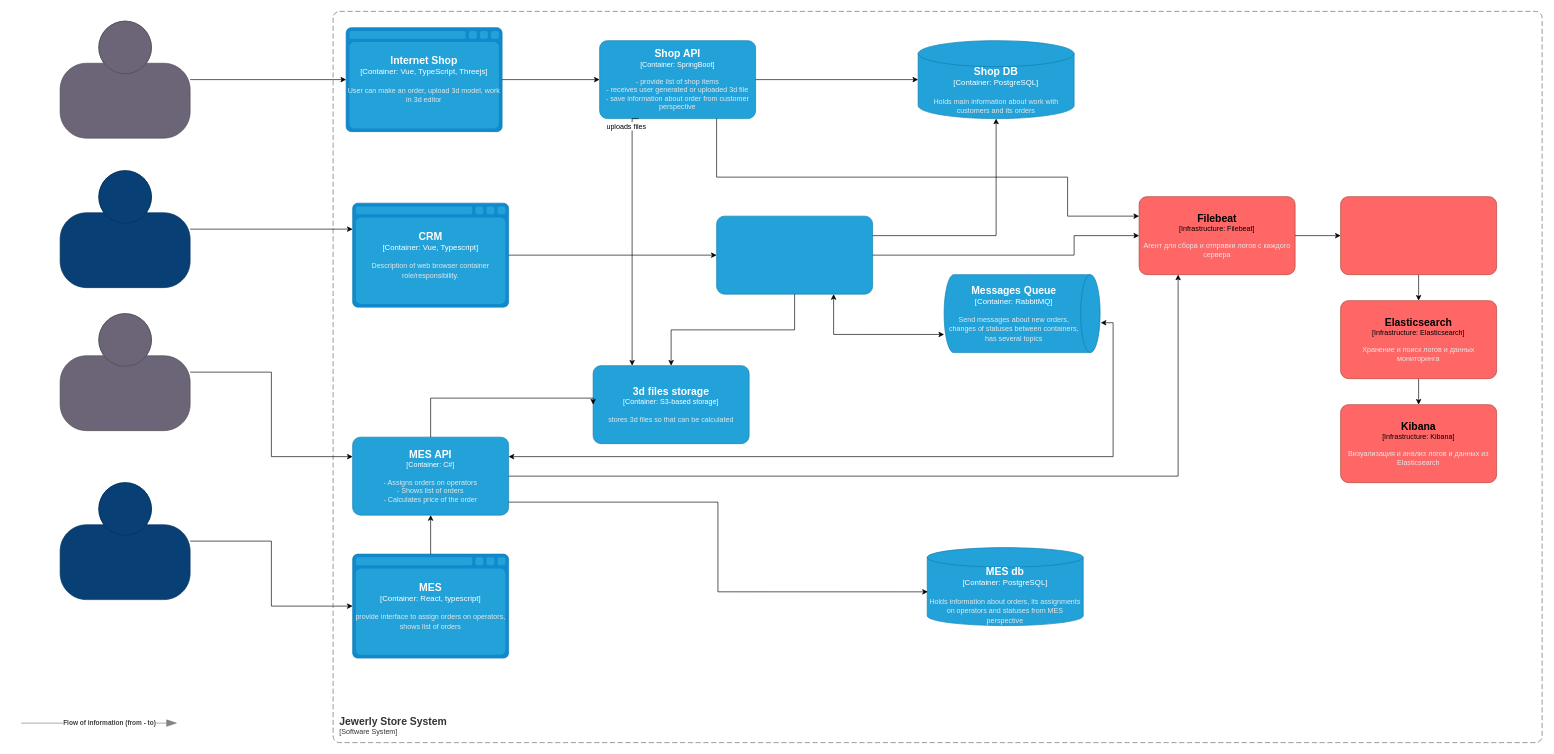
This 1554x754 diagram has some shape labels left out. The centre of each missing label's shape, as x and y in pixels:
"API user [Person] Description of external person." belongs at (124,372).
"CRM API [Container: SpringBoot] Description of container role/responsibility." belongs at (794,254).
"Customer [Person] Description of external person." belongs at (124,79).
"Logstash [Infrastructure: Logstash] Прием, обработка и трансформация логов" belongs at (1418,235).
"Operator [Person] Takes order in work, manufactures jewerly" belongs at (124,541).
"Seller [Person] Operates with order, confirms manufacturing for the user" belongs at (124,229).
